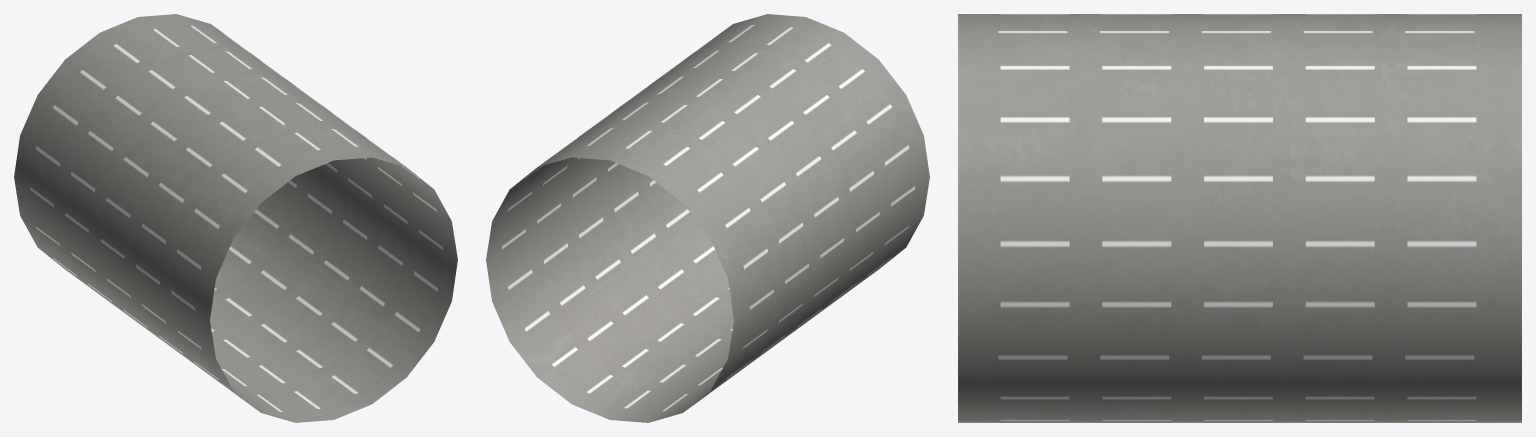
The model's file is s01_straight_aa.fbx.
The picture shows the model from 3 angles, left to right: view 1: azimuth 30°, elevation 25°; view 2: azimuth 150°, elevation 25°; view 3: azimuth 270°, elevation 25°; orthographic projection. The views are drawn at different scales.
Visible parts, largest first — view 1: VM; view 2: VM; view 3: VM.
Part boxes in pixels (x1,y1,x2,y2): VM: (14,14,457,422); VM: (486,14,929,422); VM: (958,14,1521,422).
Size of the model in its own units: 76 by 76 by 104.
Materials: 1 (1 with a texture image).
